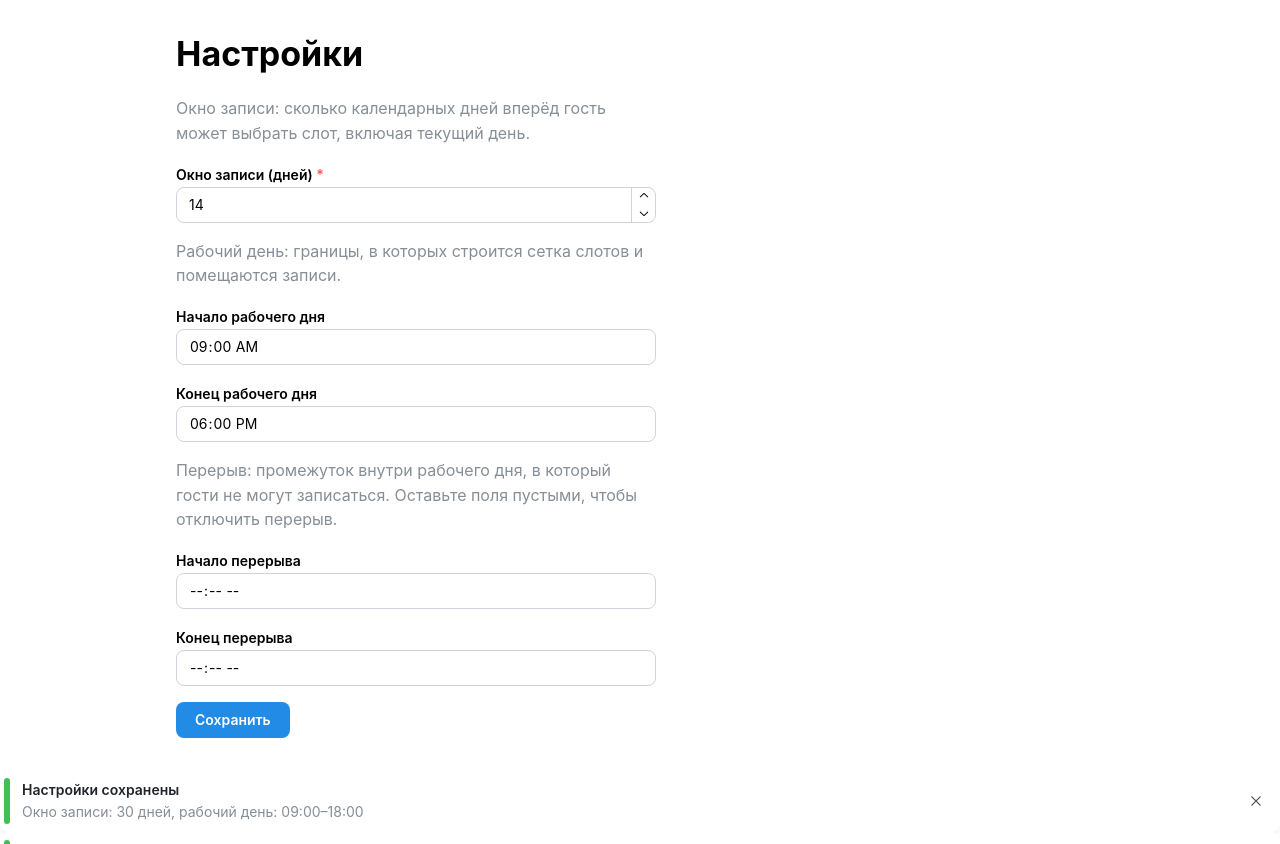
Test: SettingsPage (настройки календаря) › не отправляет невалидное значение окна записи
Replace the text in the field labelled "Окно записи (дней) *" with "0" at point(416, 205), box [176,187,656,223]
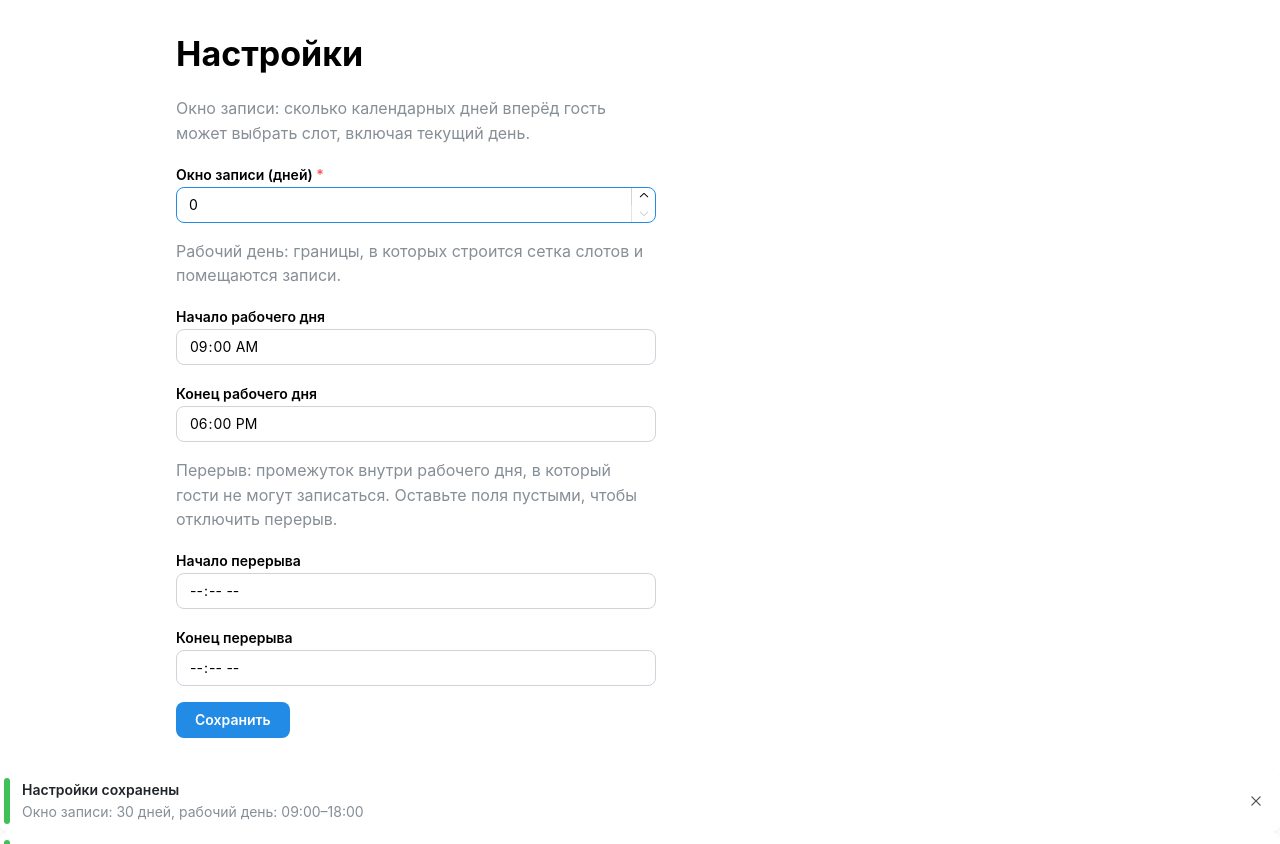
Click the button "Сохранить" at point(233, 720), box [176,702,290,738]
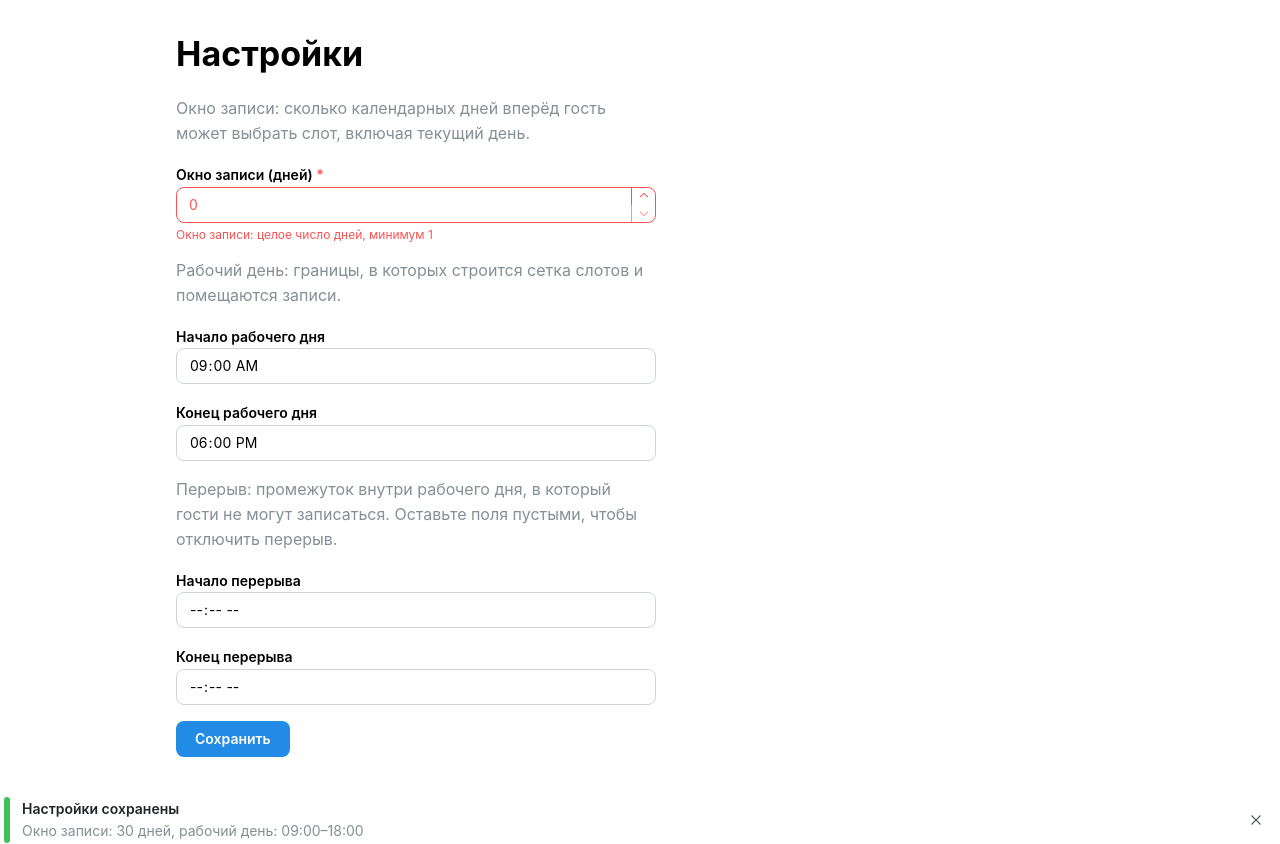
Expected: the text "Окно записи: целое число дней, минимум 1" is shown, [176,227,433,242]
